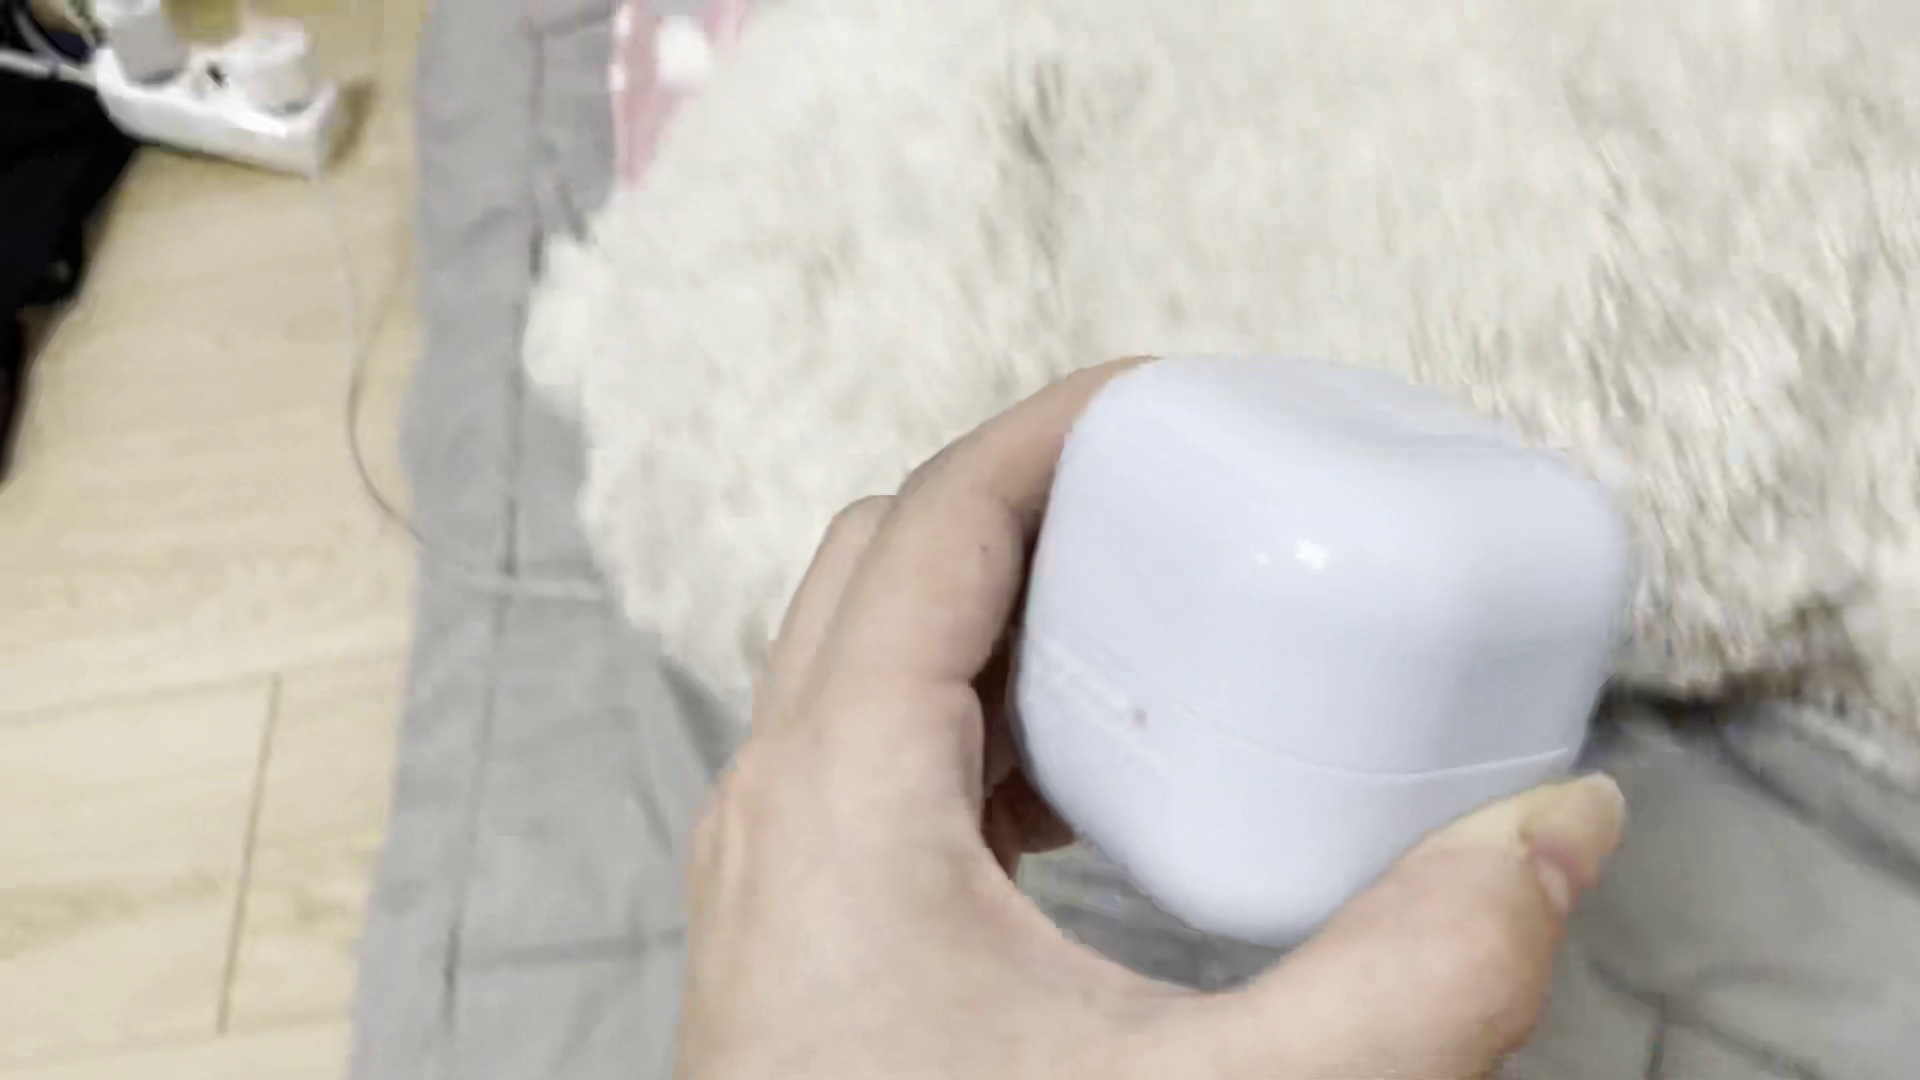cream: (1021, 357, 1615, 952)
